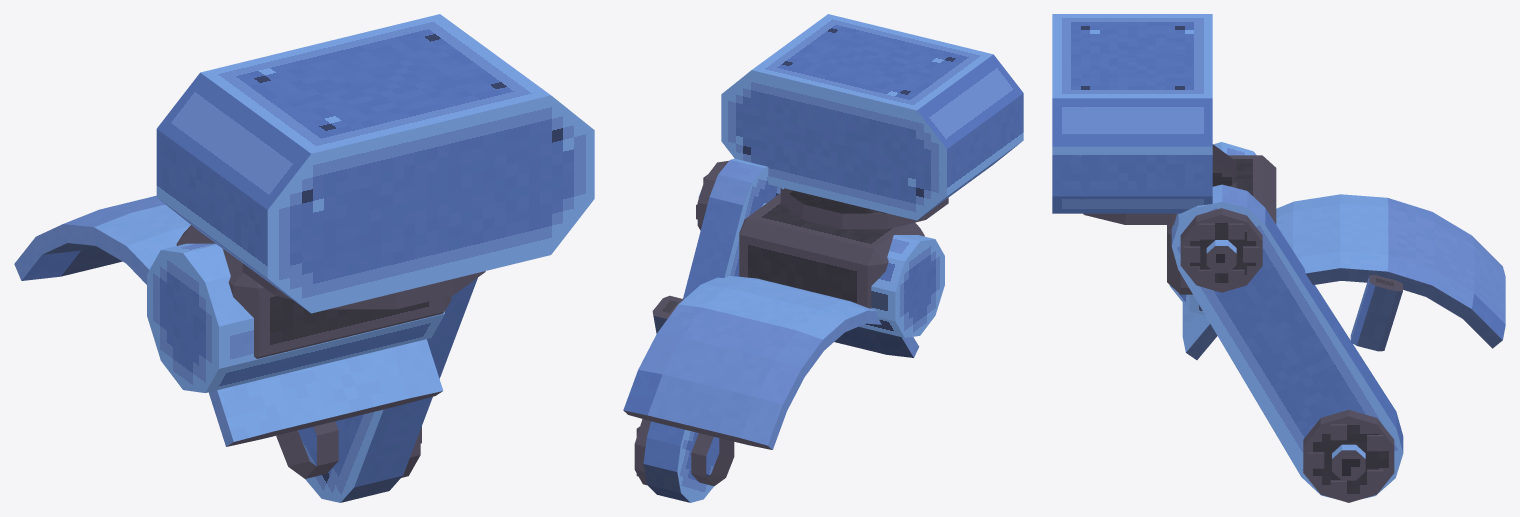
Rendered from stab2.glb.
3 views of the same model, side by side, from view 1: azimuth 30°, elevation 25°; view 2: azimuth 150°, elevation 25°; view 3: azimuth 270°, elevation 25° (orthographic). The views are drawn at different scales.
Parts seen in each view (by area): view 1: stab2_body, stab2_arm, stab2_head; view 2: stab2_body, stab2_arm, stab2_head; view 3: stab2_arm, stab2_body, stab2_head.
Boxes of the visible parts, <box> form: stab2_body: <box>156,14,594,313</box>; stab2_arm: <box>14,195,477,502</box>; stab2_head: <box>147,225,451,392</box>; stab2_body: <box>721,14,1023,229</box>; stab2_arm: <box>623,158,919,502</box>; stab2_head: <box>739,193,944,337</box>; stab2_arm: <box>1171,184,1505,502</box>; stab2_body: <box>1052,14,1236,224</box>; stab2_head: <box>1167,142,1276,315</box>.
Bounding box in the file's own units: 0.63 × 0.96 × 0.9985.
Materials: 1 (1 with a texture image).
